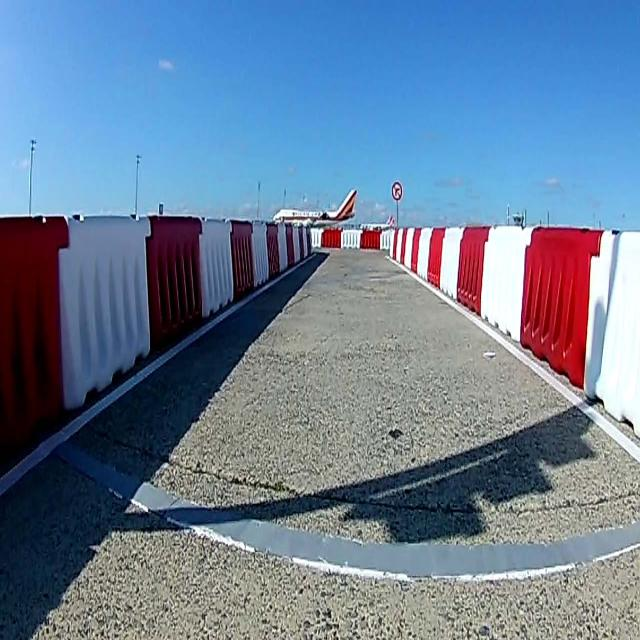sagadonulmez: (392, 180, 402, 202)
